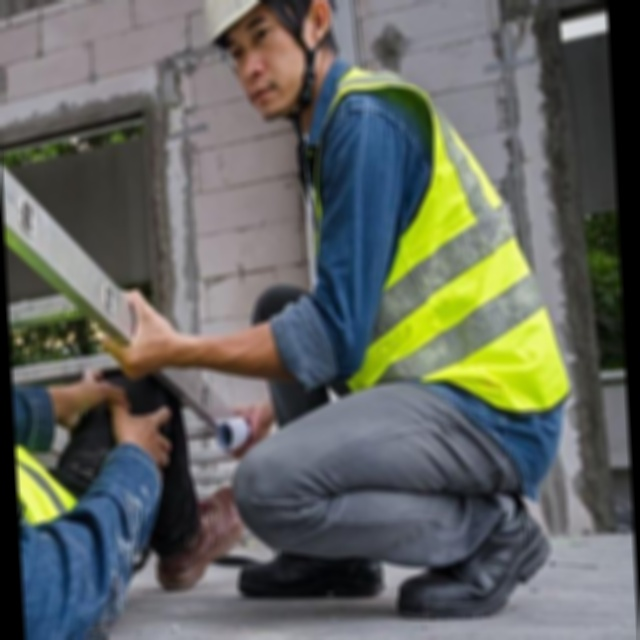Con_Casco: (197, 0, 340, 124)
Con_Chaleco: (287, 66, 562, 430)
